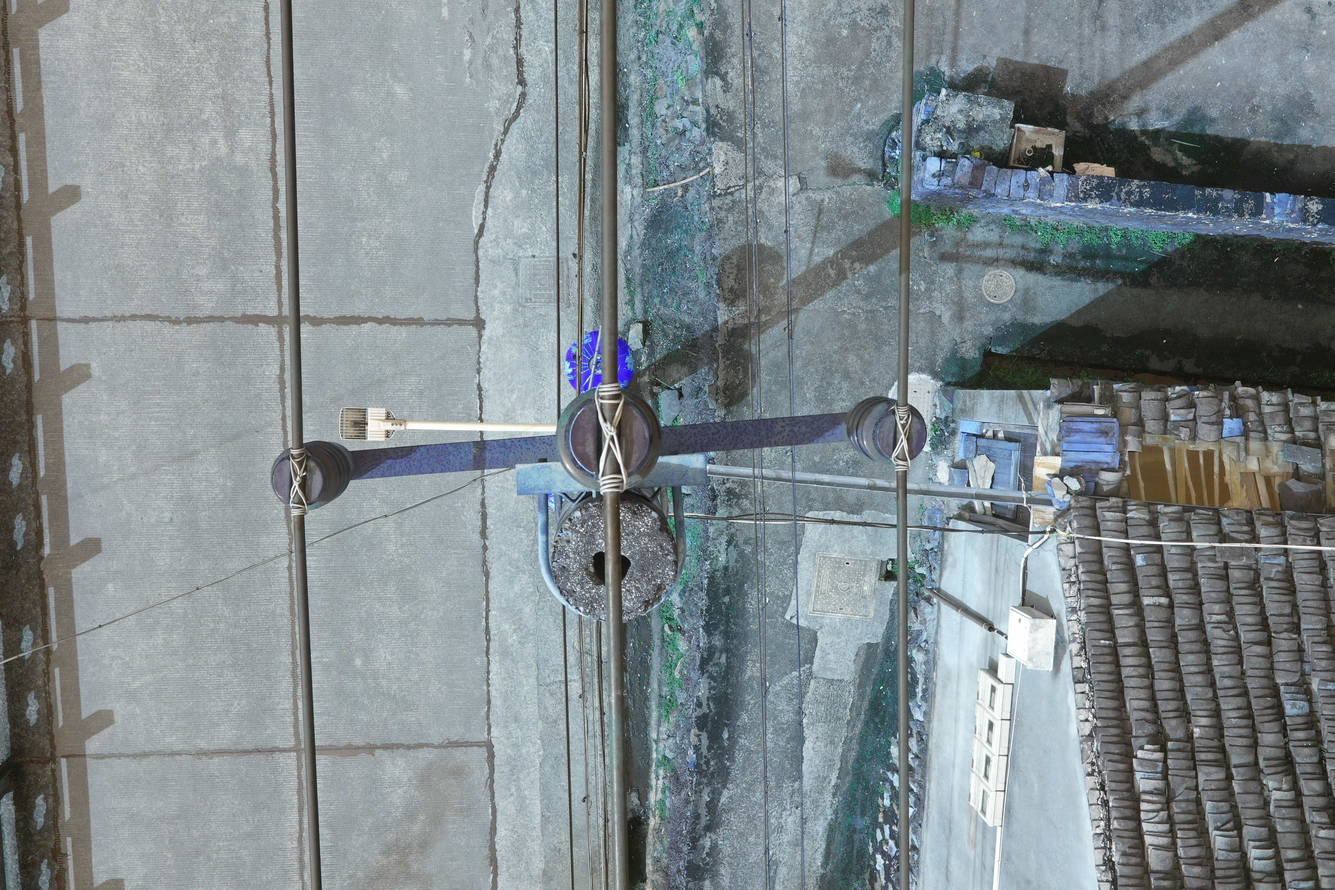severe_soiling_no_discharge_whole: (554, 379, 666, 498), (267, 436, 357, 514), (843, 392, 930, 472)
